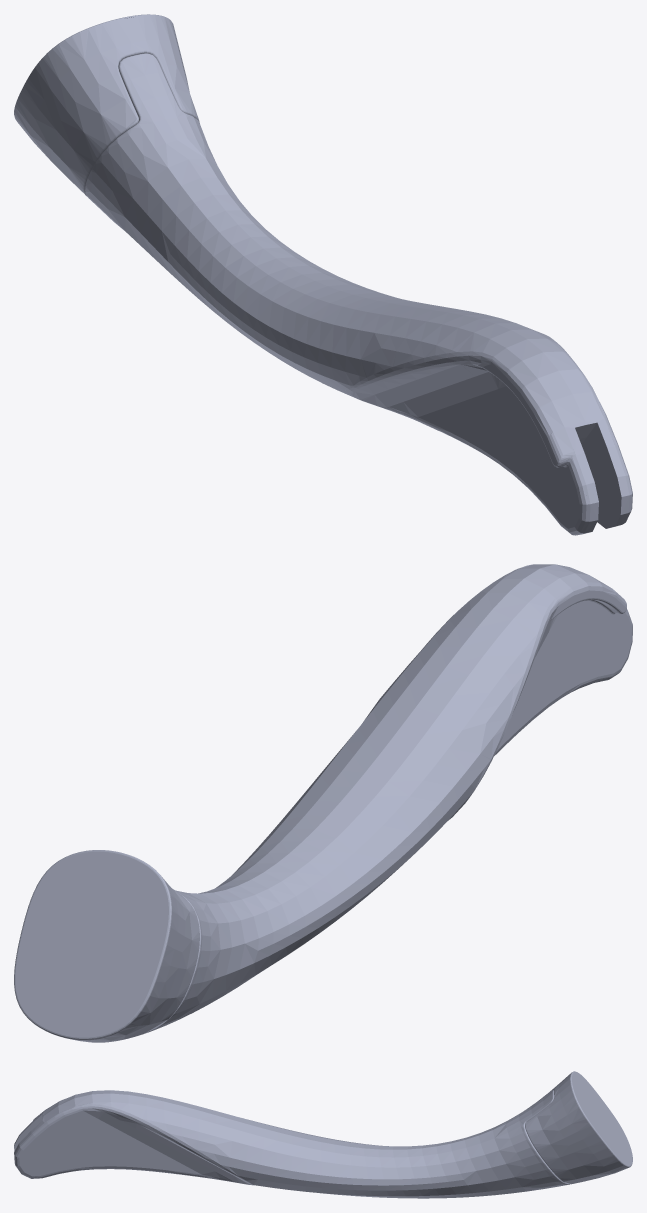
File: converted_calf_0_abb1c5ff.obj
3 renders of one model, top to bottom at view 1: azimuth 30°, elevation 25°; view 2: azimuth 150°, elevation 25°; view 3: azimuth 270°, elevation 25°, orthographic. The views are drawn at different scales.
Bounding box in the file's own units: 0.0374 × 0.0531 × 0.2522.
